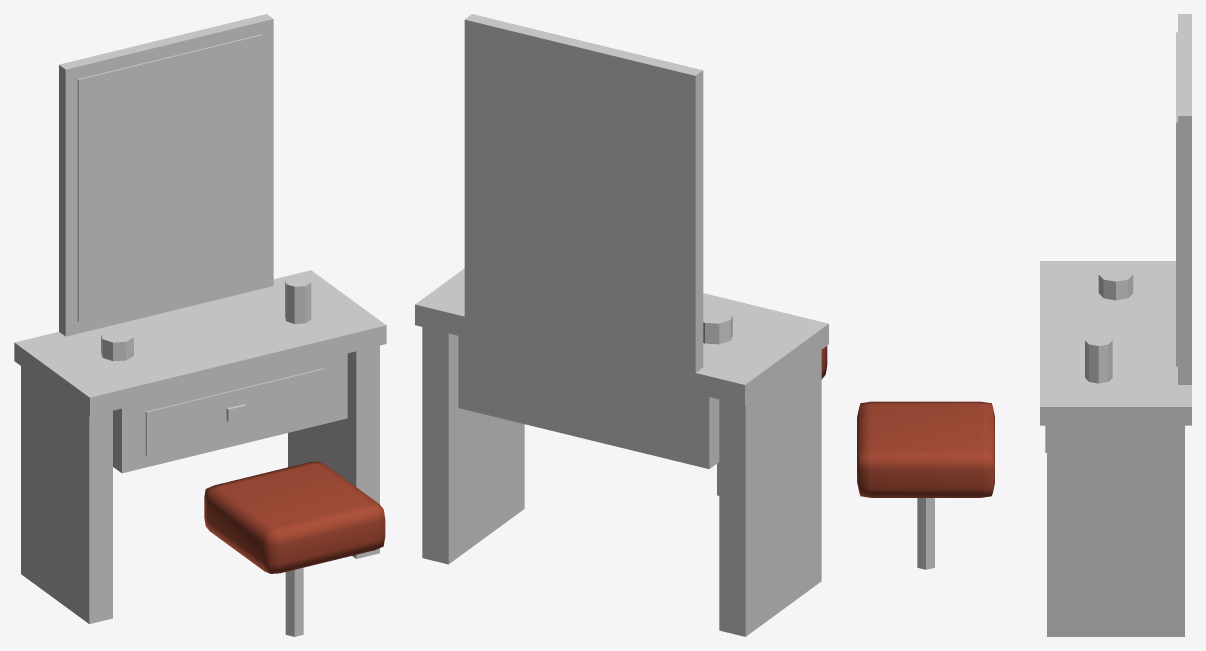
The model's file is dressing-table.glb.
3 renders of one model, left to right at view 1: azimuth 30°, elevation 25°; view 2: azimuth 150°, elevation 25°; view 3: azimuth 270°, elevation 25°, orthographic. The views are drawn at different scales.
Visible parts, largest first — view 1: dressing-table; view 2: dressing-table; view 3: dressing-table.
Part boxes in pixels (x1,y1,x2,y2): dressing-table: [14, 14, 386, 636]; dressing-table: [415, 14, 828, 636]; dressing-table: [857, 14, 1191, 636].
Size of the model in its own units: 1.15 by 1.84 by 1.12.
